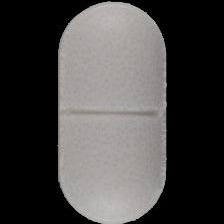43353-215: (0, 0, 224, 224)
